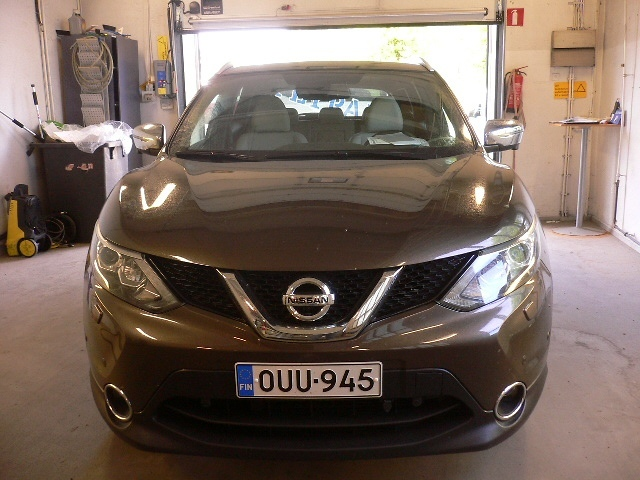license: (233, 358, 382, 405)
